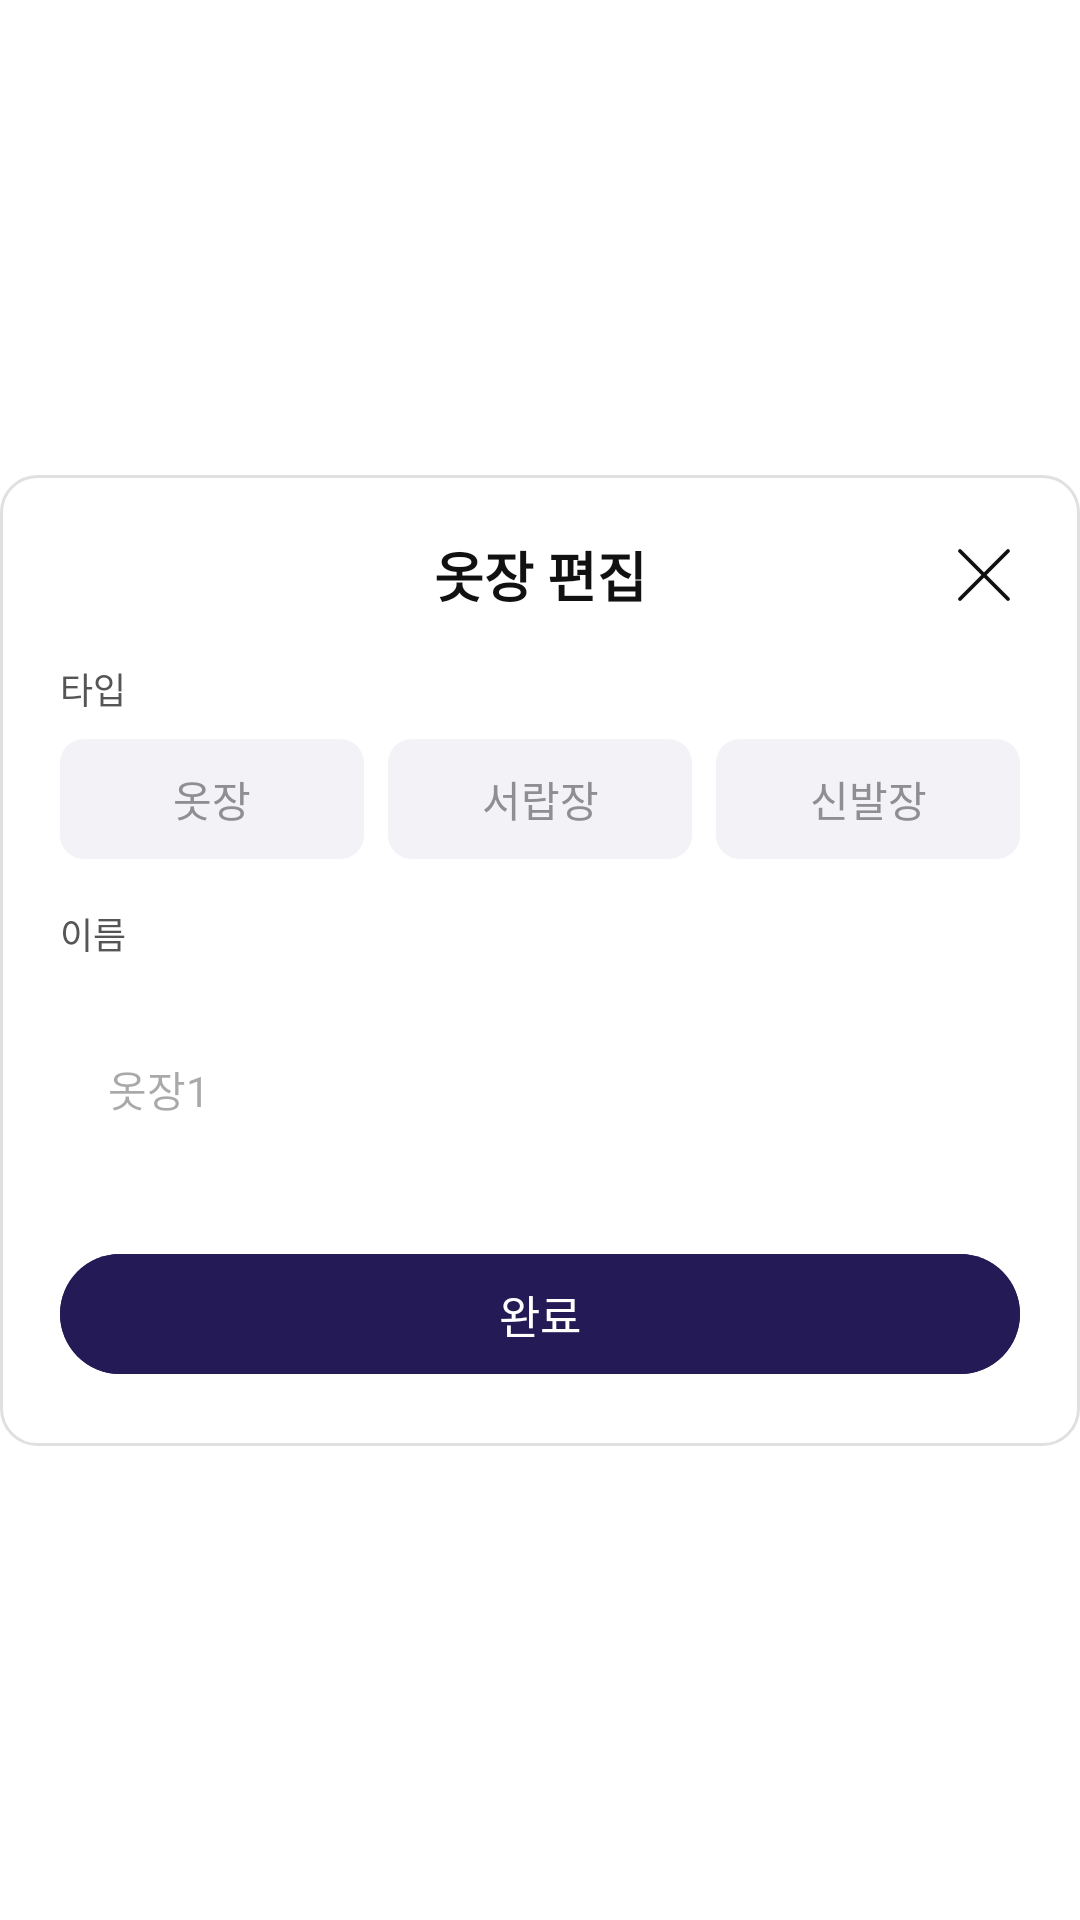

Named icons in this screenshot (1080×1920) and their centers, (x=x, y=y):
closet close: (x=984, y=575)
